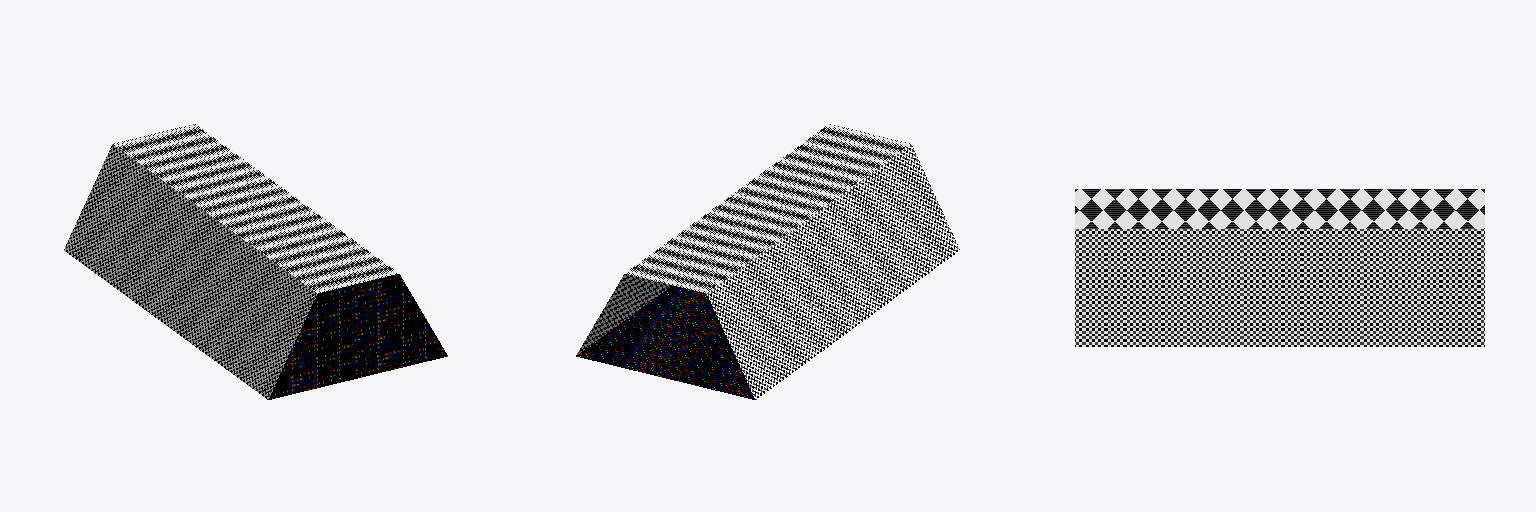
The picture shows the model from 3 angles: view 1: azimuth 30°, elevation 25°; view 2: azimuth 150°, elevation 25°; view 3: azimuth 270°, elevation 25°; orthographic projection.
Parts seen in each view (by area): view 1: Cube; view 2: Cube; view 3: Cube.
Part boxes in pixels (bbox=[...]): Cube: bbox=[64, 124, 447, 399]; Cube: bbox=[576, 124, 959, 399]; Cube: bbox=[1075, 189, 1484, 346].
Size of the model in its own units: 355 by 179 by 700.
Materials: 3 (2 with a texture image).